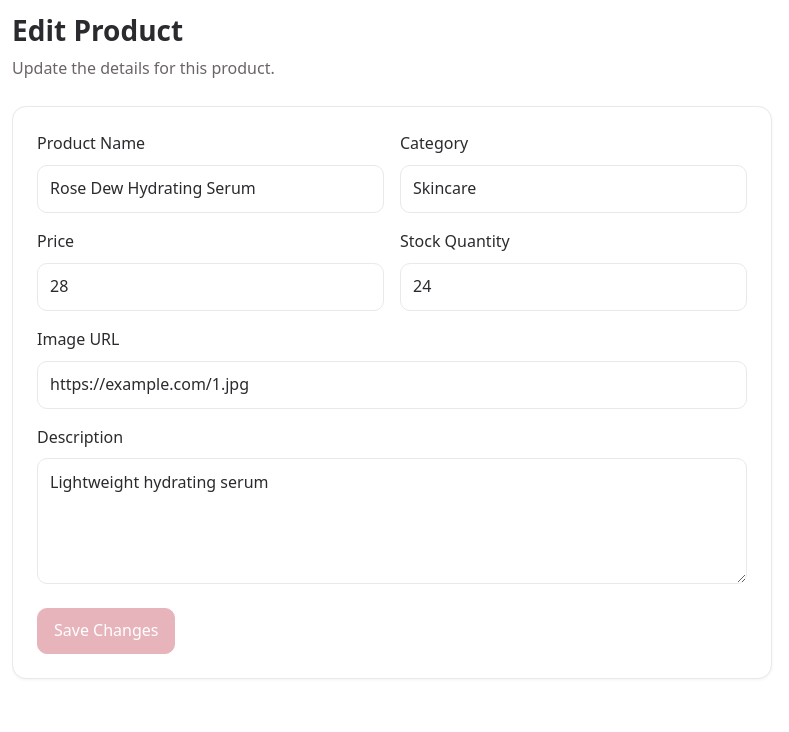
Scenario: EditProduct › handles update errors
Expected: the field showing "Rose Dew Hydrating Serum" is shown, [37,165,384,213]
Click the button "Save Changes": click(106, 631) [37,608,176,654]
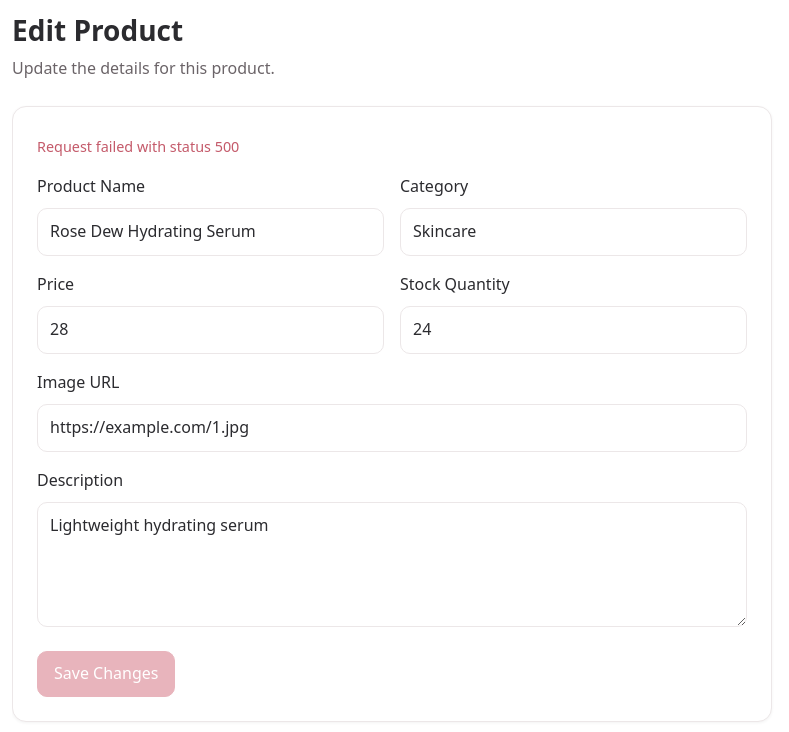
Expected: the text "Request failed with status 500" is shown, [37,137,239,156]
